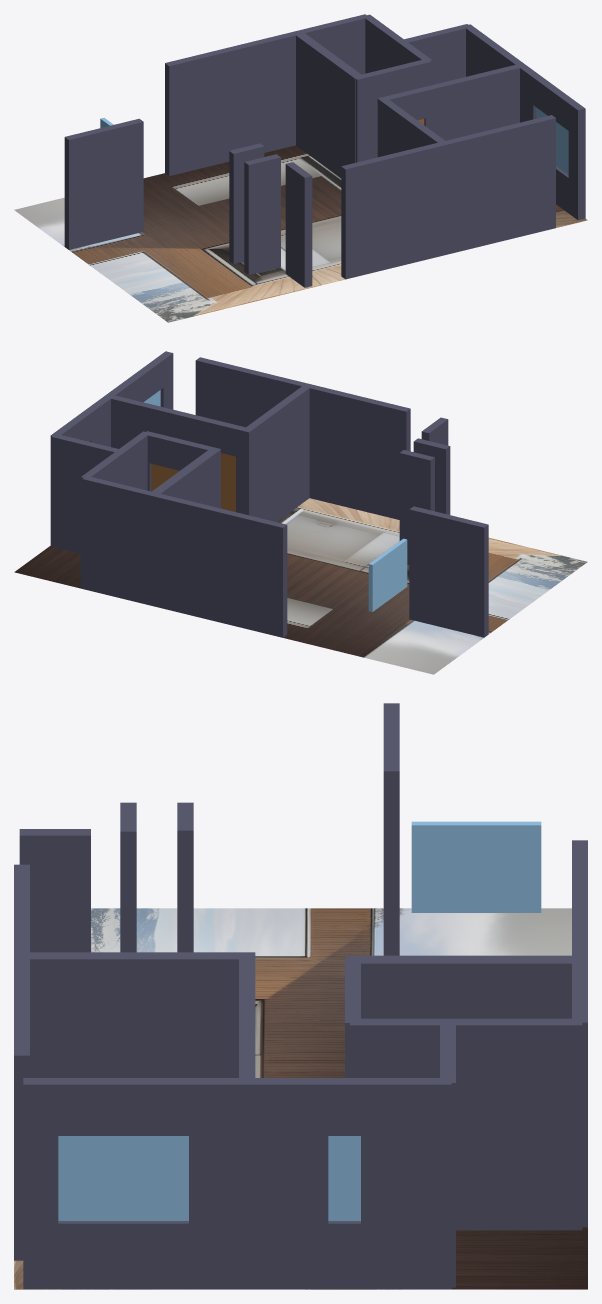
File: floorplan2.obj
The picture shows the model from 3 angles, top to bottom: view 1: azimuth 30°, elevation 25°; view 2: azimuth 150°, elevation 25°; view 3: azimuth 270°, elevation 25°; orthographic projection. The views are drawn at different scales.
Parts seen in each view (by area): view 1: wall, FloorPlan, Window; view 2: wall, FloorPlan, Window, Door; view 3: wall, FloorPlan, Window.
Part boxes in pixels (x1,y1,x2,y2): wall: (64, 14, 585, 287); FloorPlan: (14, 145, 587, 322); Window: (100, 107, 568, 174); wall: (50, 351, 488, 637); FloorPlan: (14, 498, 587, 674); Window: (144, 390, 407, 611); Door: (151, 453, 235, 511); wall: (14, 703, 587, 1289); FloorPlan: (14, 908, 587, 1289); Window: (58, 821, 541, 1220).
Size of the model in its own units: 11.19 by 2.8 by 7.12.
4 materials, 1 textured.
